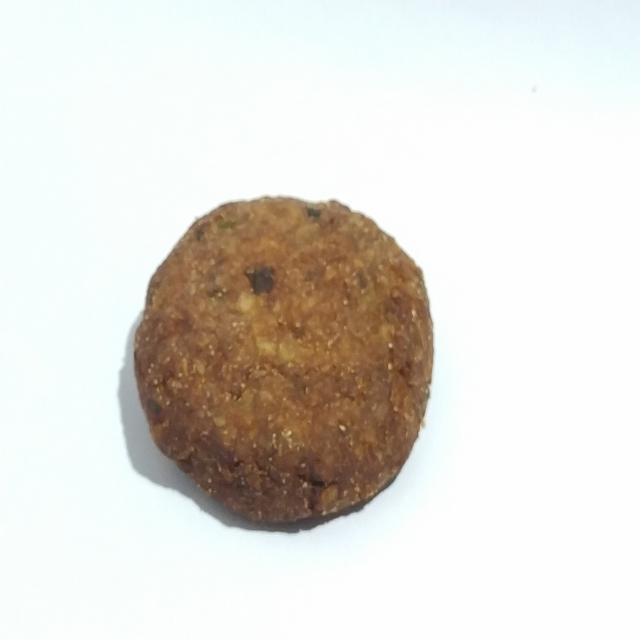Pajagua: (128, 177, 445, 540)
